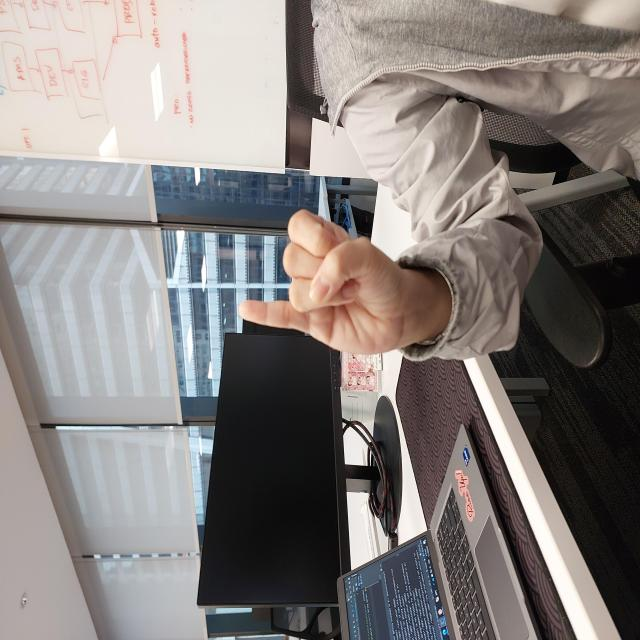I: (282, 240, 431, 403)
